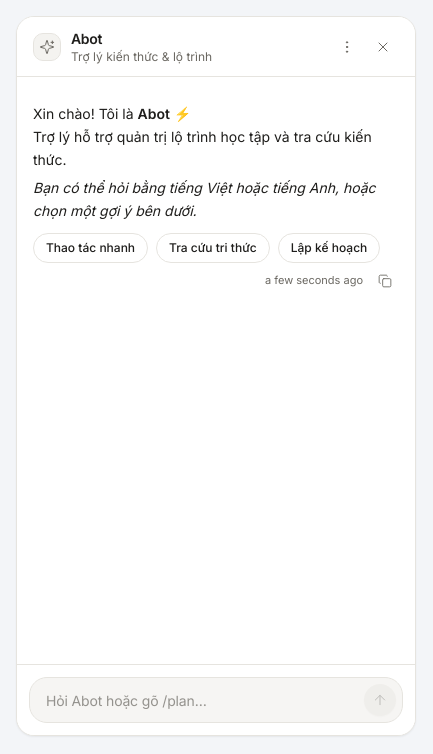
Test: RoadmapChatbotWidget › menu by access (P1-5, P1-7) › owner: offers the conversation id as well
Click the button named "Tùy chọn": (347, 46) x1=331 y1=30 x2=363 y2=62
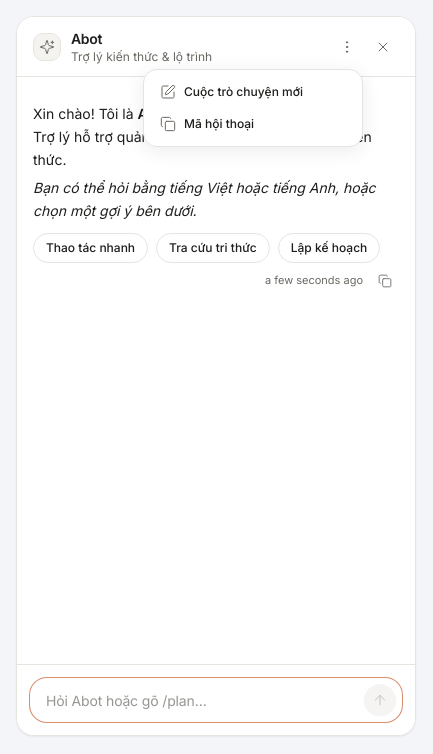
Check: the text "Cuộc trò chuyện mới" is shown, box x1=184 y1=84 x2=303 y2=100
Check: the text "Mã hội thoại" is shown, box x1=184 y1=116 x2=254 y2=132
